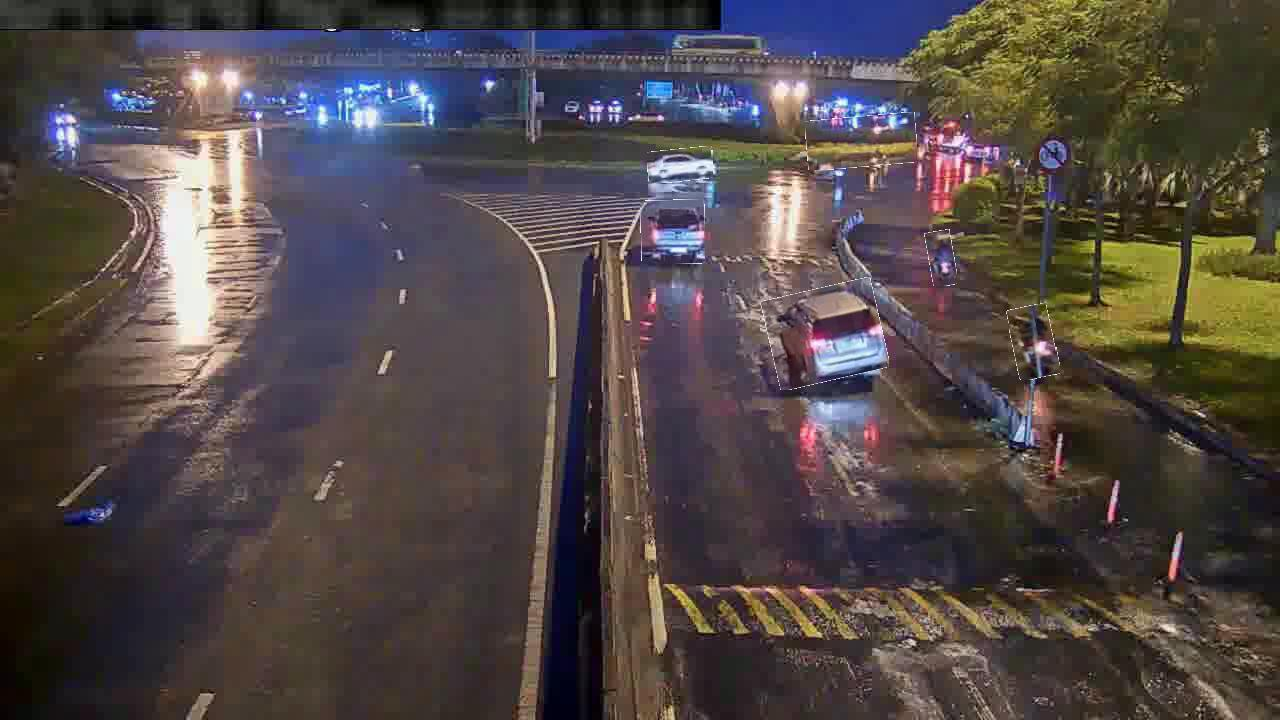14: (806, 115, 918, 169), (640, 200, 706, 265)
container: (766, 282, 886, 386), (648, 148, 714, 183)
motorbike: (1010, 305, 1058, 380), (927, 230, 956, 287)
